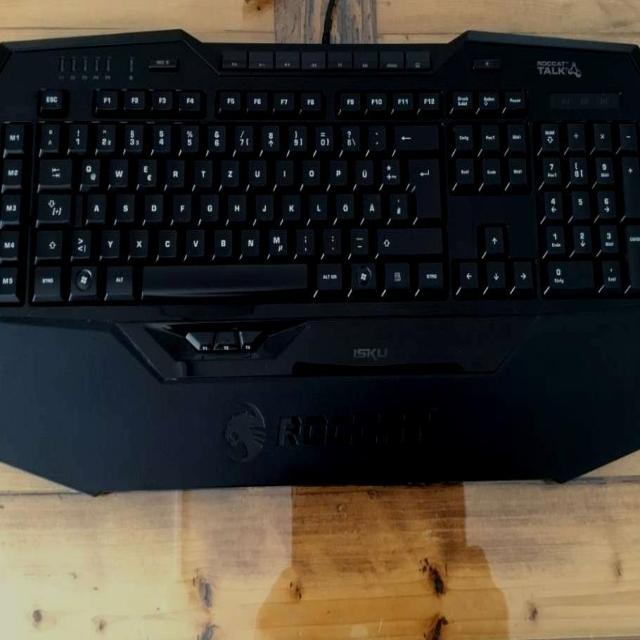0: (312, 119, 333, 149)
1: (66, 118, 88, 150)
2: (92, 118, 115, 150)
3: (120, 117, 143, 151)
4: (148, 118, 171, 150)
5: (177, 119, 199, 151)
6: (205, 119, 226, 150)
7: (231, 118, 253, 150)
8: (258, 119, 279, 150)
9: (285, 119, 306, 149)
a: (84, 189, 105, 219)
accent: (364, 120, 384, 148)
ae: (359, 188, 380, 218)
alt-left: (103, 260, 133, 295)
altgr-right: (313, 258, 342, 289)
b: (210, 225, 232, 255)
c: (155, 225, 176, 255)
caret: (37, 119, 59, 149)
comma: (293, 224, 313, 253)
d: (141, 189, 163, 220)
del: (391, 119, 437, 149)
e: (135, 154, 156, 184)
enter: (404, 153, 440, 217)
f: (169, 189, 190, 220)
g: (197, 190, 217, 219)
h: (224, 190, 245, 219)
hash: (386, 188, 406, 217)
i: (272, 155, 293, 183)
j: (252, 189, 272, 218)
k: (279, 189, 300, 219)
keyboard: (0, 51, 640, 320)
l: (306, 189, 326, 218)
less: (68, 225, 91, 256)
m: (265, 224, 287, 254)
minus: (347, 224, 367, 253)
n: (238, 225, 259, 255)
o: (299, 156, 319, 183)
oe: (333, 189, 353, 218)
p: (326, 155, 346, 183)
plus: (378, 154, 398, 183)
point: (320, 224, 340, 253)
q: (77, 153, 99, 182)
r: (162, 154, 184, 185)
s: (113, 189, 134, 220)
shift-left: (34, 225, 63, 256)
shift-lock: (34, 189, 71, 221)
shift-right: (374, 224, 441, 252)
space: (138, 259, 307, 293)
ss: (338, 120, 359, 149)
strg-left: (30, 261, 62, 298)
strg-right: (414, 257, 443, 289)
t: (191, 155, 212, 184)
tab: (35, 153, 71, 184)
u: (245, 155, 266, 184)
ue: (352, 155, 372, 183)
v: (183, 224, 205, 255)
w: (105, 154, 127, 184)
x: (126, 225, 148, 255)
y: (98, 225, 119, 255)
z: (218, 155, 238, 184)
